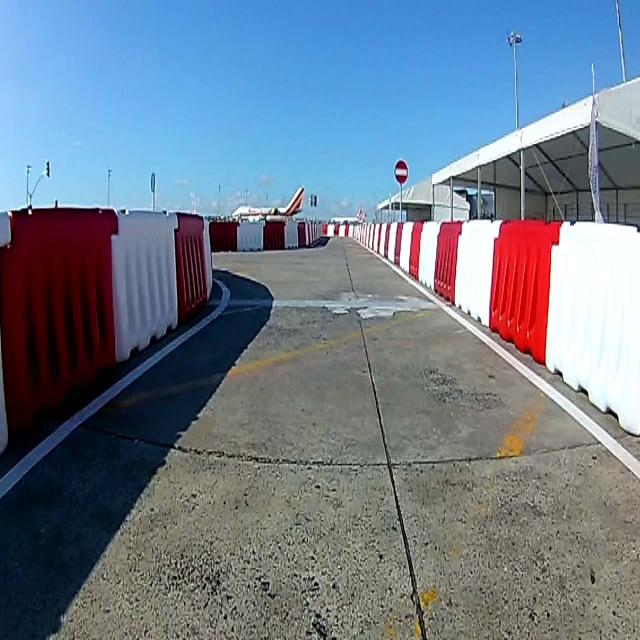girisyok: (394, 160, 408, 184)
